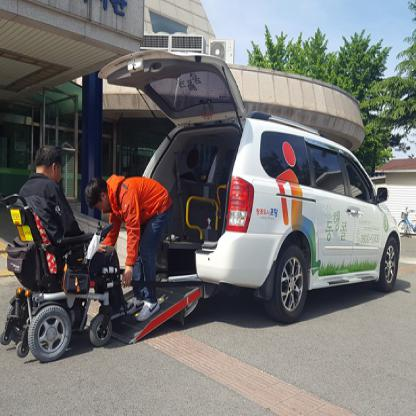wheelchair: (0, 141, 130, 363)
